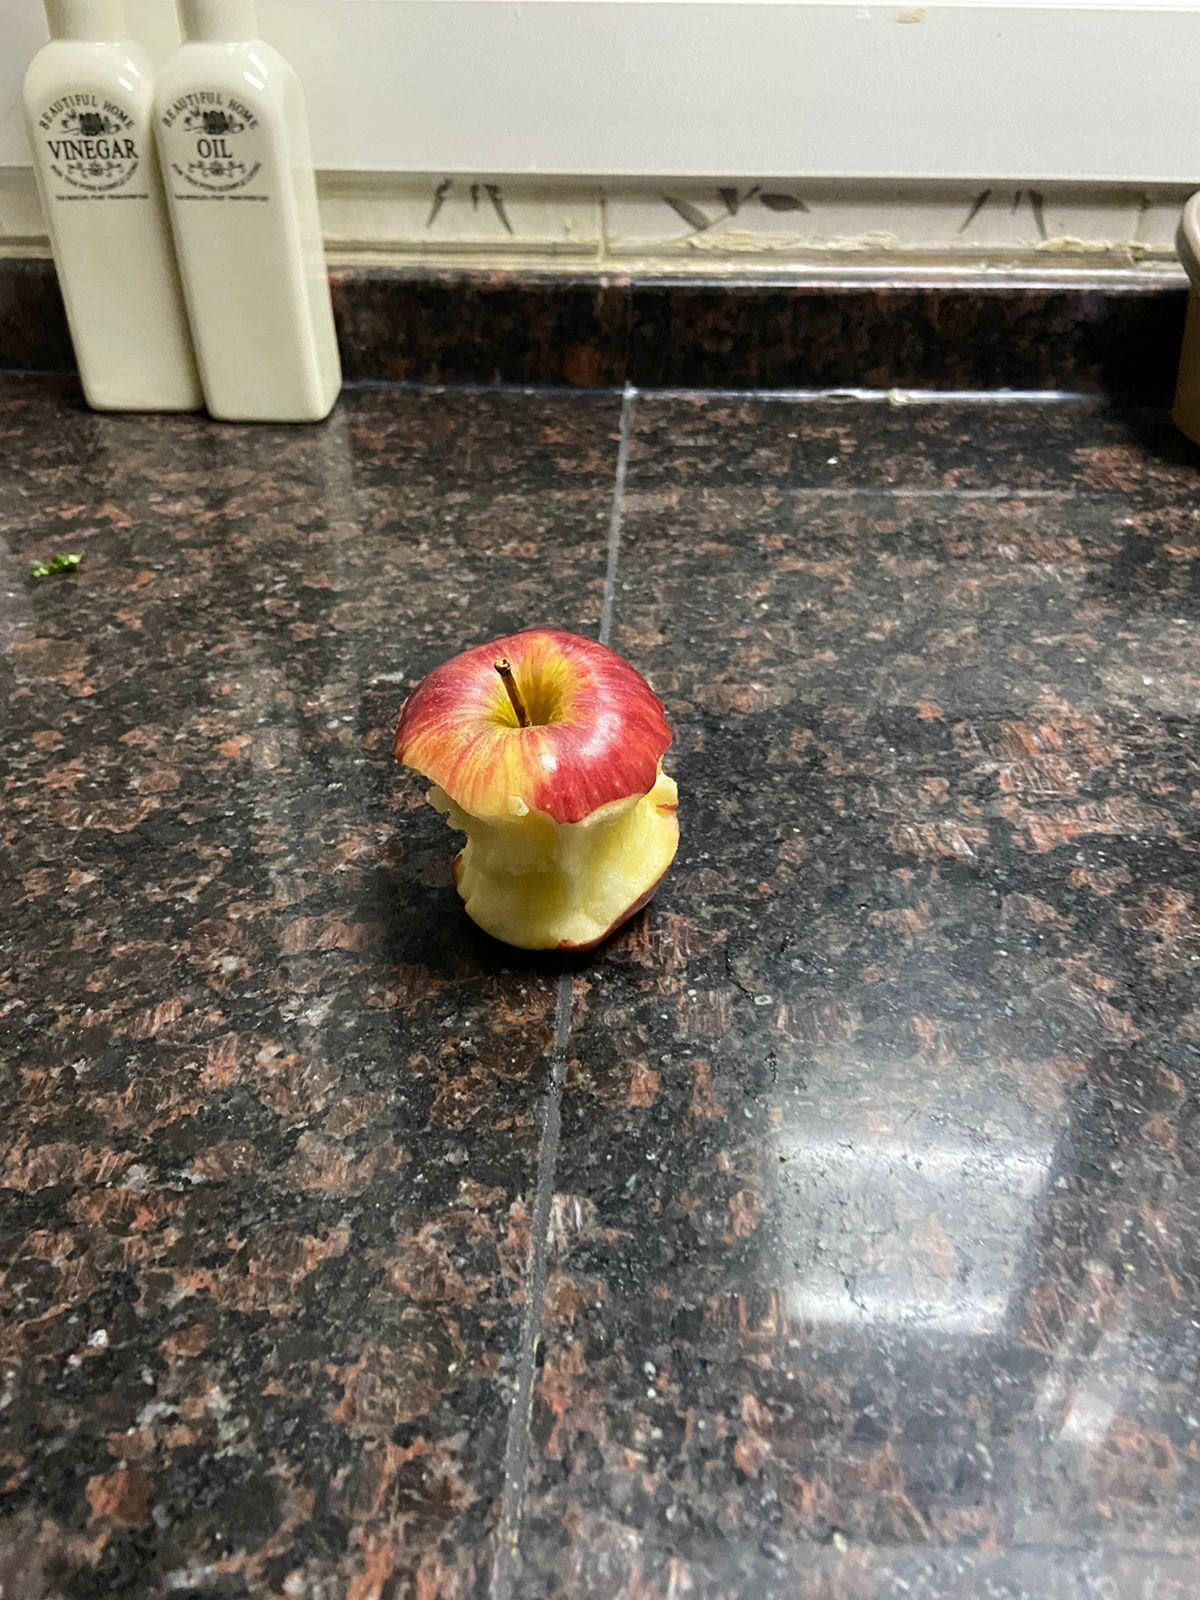Apple: (401, 624, 695, 976)
